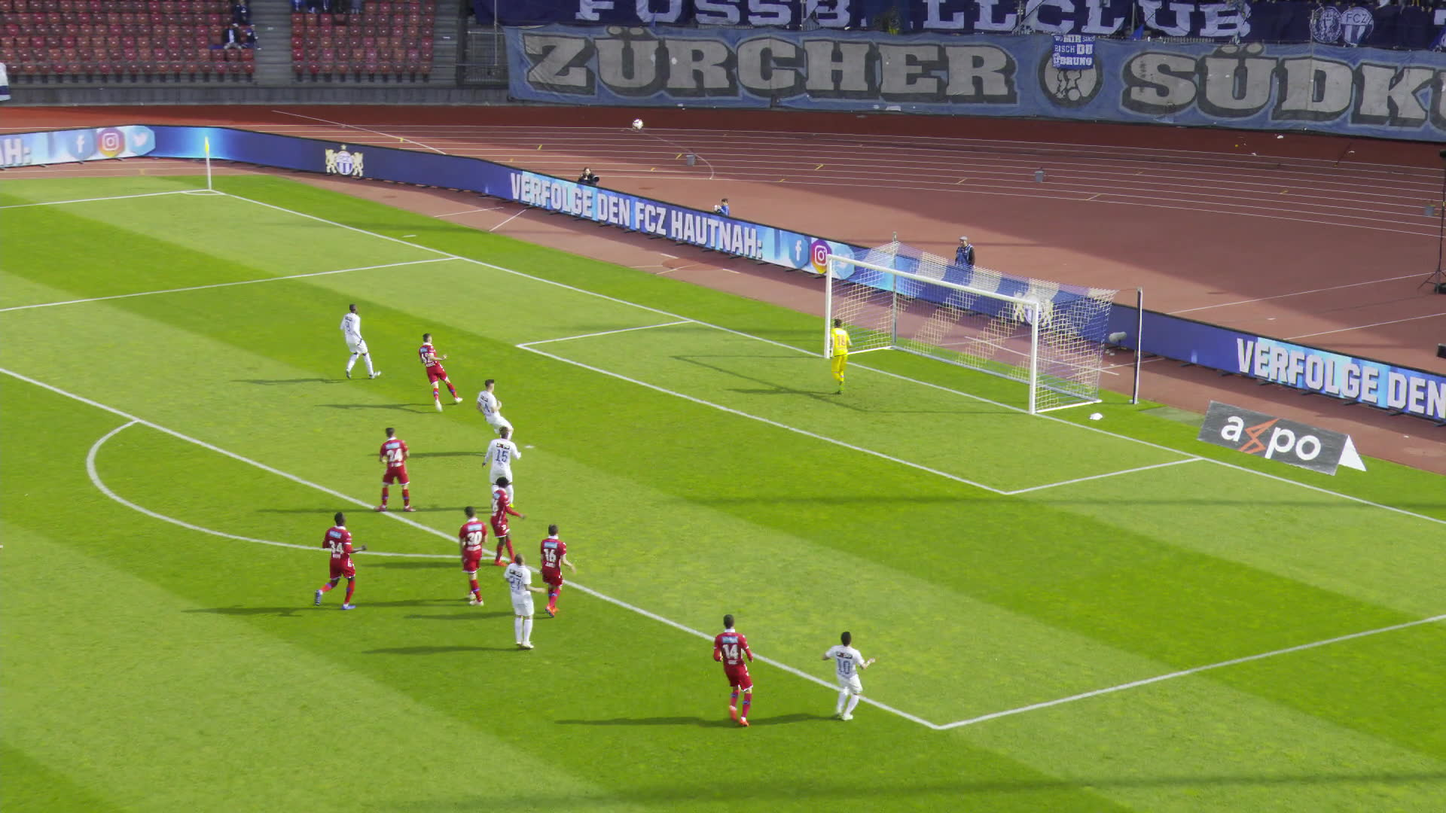ball: (630, 123, 641, 133)
player: (707, 611, 763, 726), (315, 511, 366, 607), (822, 631, 876, 720), (503, 551, 545, 649), (418, 333, 463, 409), (481, 425, 520, 510), (536, 522, 571, 616), (378, 426, 416, 510), (339, 302, 381, 378), (489, 476, 524, 564), (459, 506, 490, 603), (477, 379, 513, 439), (830, 318, 852, 394)
referee: (0, 525, 6, 547)
